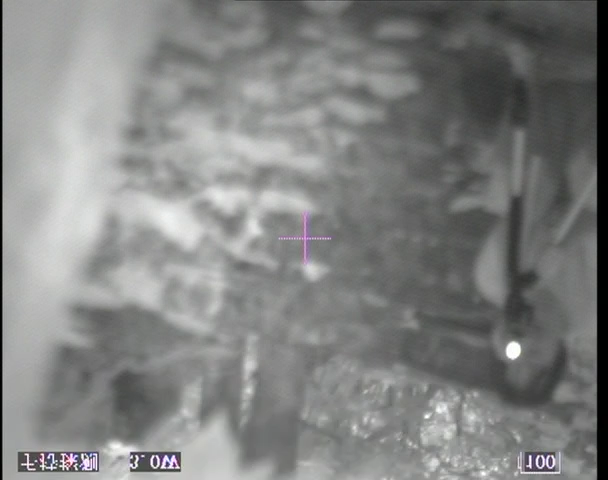my: (503, 339, 523, 360)
